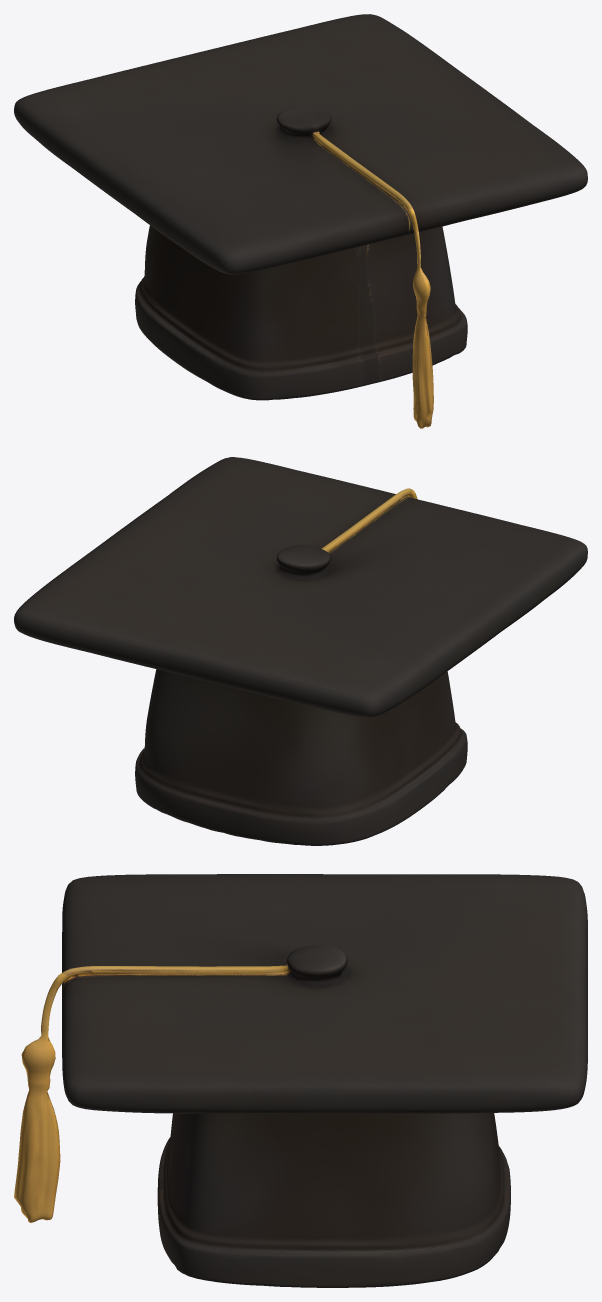
File: base_basic_pbr.glb
3 views of the same model, one above another, from view 1: azimuth 30°, elevation 25°; view 2: azimuth 150°, elevation 25°; view 3: azimuth 270°, elevation 25° (orthographic). The views are drawn at different scales.
Visible parts, largest first — view 1: model; view 2: model; view 3: model.
Part boxes in pixels (box(x1,y1,x2,y2)): model: box(14, 14, 587, 428); model: box(14, 457, 587, 845); model: box(14, 874, 587, 1287).
Bounding box in the file's own units: 1.66 × 0.9611 × 1.87.
1 material, 1 textured.
